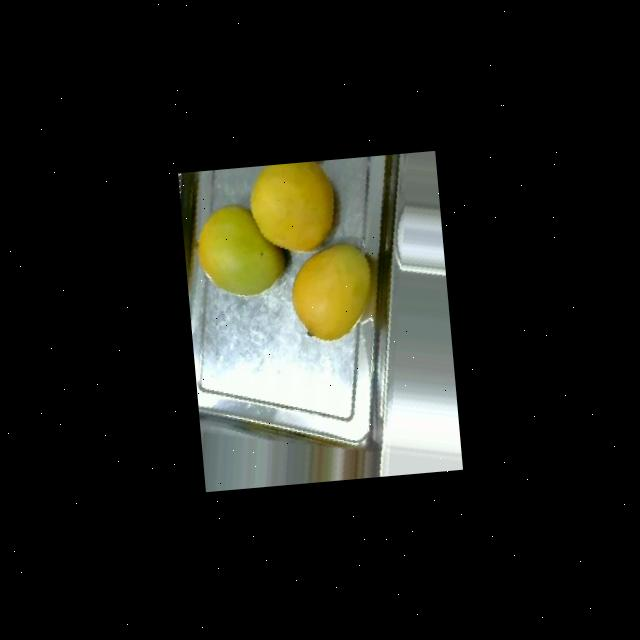Mango: (192, 200, 288, 300), (286, 240, 376, 344), (245, 160, 338, 256)
